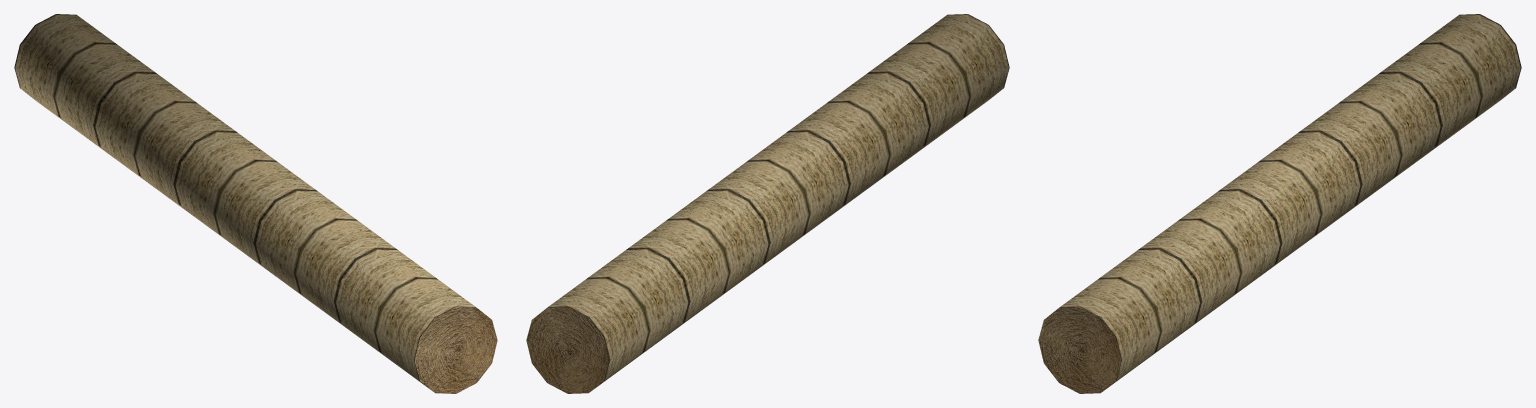
Rendered from hay-bale-straw-1x10-cbj_LOD01.gltf.
3 renders of one model, left to right at view 1: azimuth 30°, elevation 25°; view 2: azimuth 150°, elevation 25°; view 3: azimuth 330°, elevation 25°, orthographic.
Parts seen in each view (by area): view 1: Cube.001; view 2: Cube.001; view 3: Cube.001.
Part boxes in pixels (left/top/right/bottom): Cube.001: left=14, top=14, right=497, bottom=393; Cube.001: left=526, top=14, right=1009, bottom=393; Cube.001: left=1038, top=14, right=1521, bottom=393.
Bounding box in the file's own units: 1.8 × 1.8 × 15.
